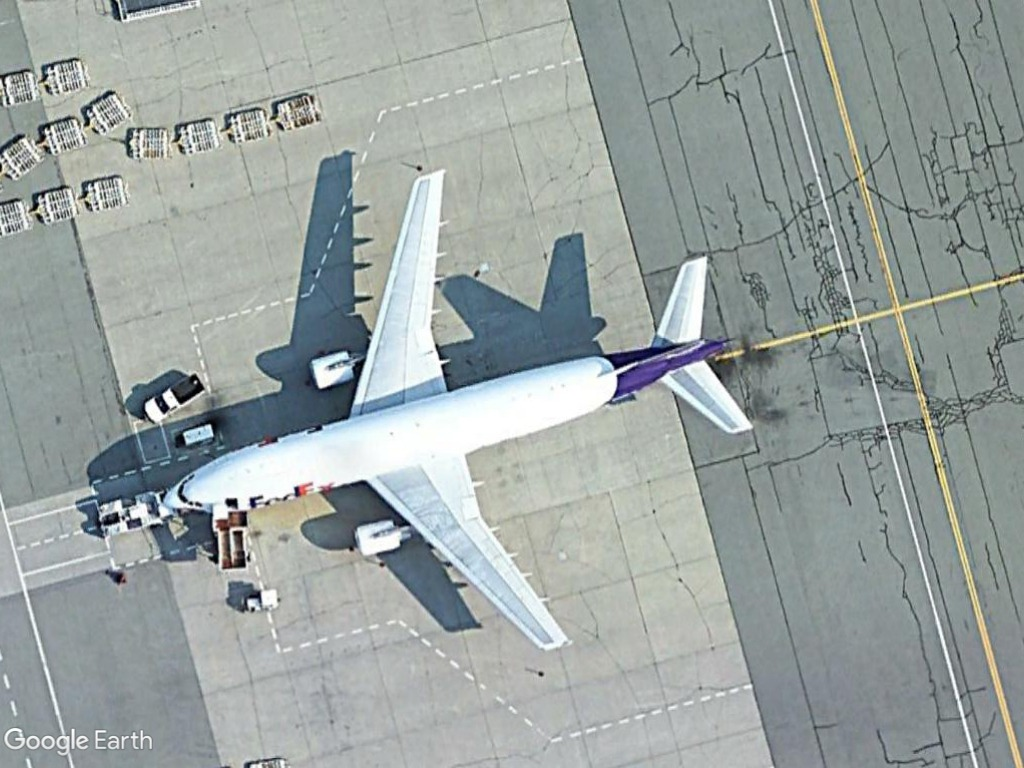airliner: (142, 162, 759, 659)
